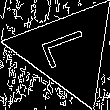L_E: (37, 27, 99, 74)
